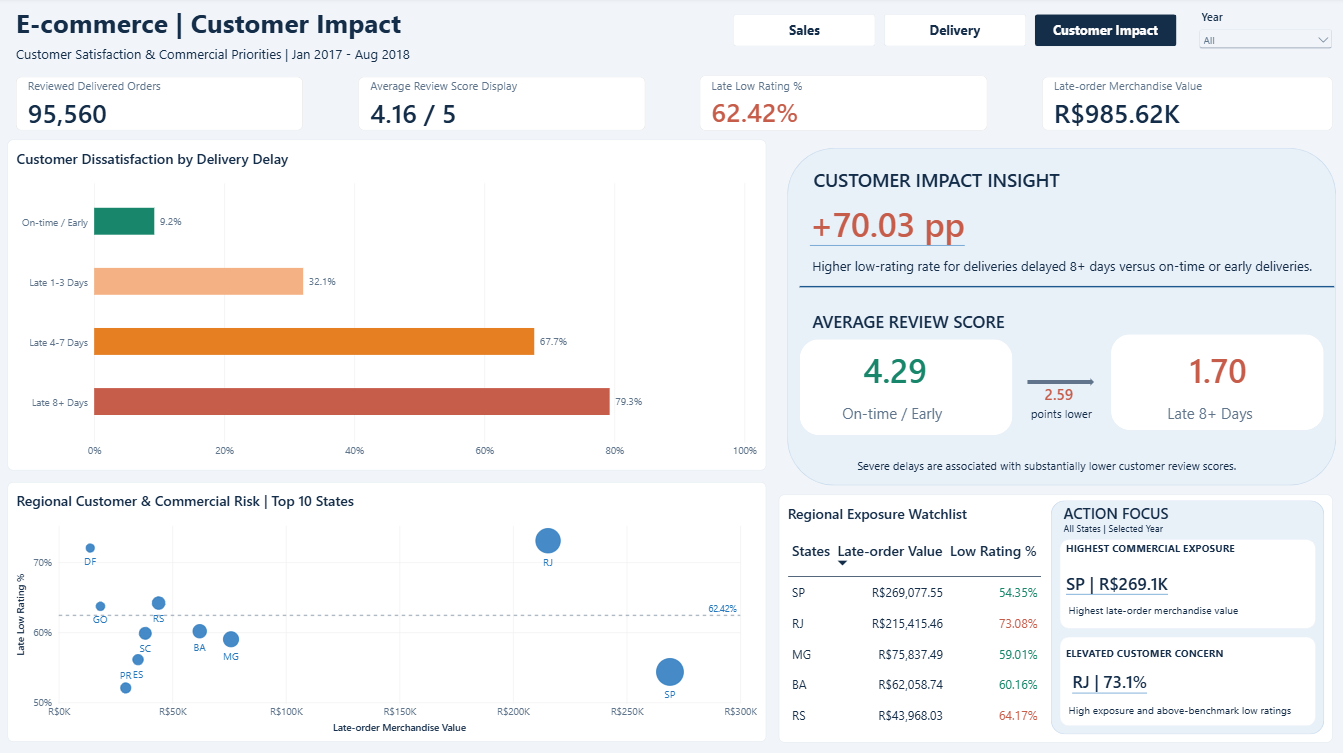

Layout of this report page (visuals, bound fields, positions):
{"tool":"powerbi","page":{"name":"Customer Impact","canvas":[1920,1080],"ordinal":2},"visuals":[{"type":"scatterChart","title":"Regional Customer & Commercial Risk | Top 10 States","fields":{"Category":["Customers.customer_state"],"Size":["OrderReviews.Late Reviewed Orders"],"X":["OrderItems.Late-order Merchandise Value"],"Y":["OrderReviews.Late Low Rating %"]},"box":[10.7,692.9,1083.9,371.4],"z":0},{"type":"textbox","box":[10.9,0,723.6,83.6],"z":1000},{"type":"textbox","box":[10.7,57.1,667.9,53.6],"z":2000},{"type":"cardVisual","fields":{"Data":["OrderReviews.Reviewed Delivered Orders"]},"box":[10.9,101.8,434.5,101.8],"z":3000},{"type":"cardVisual","fields":{"Data":["Customers.Average Review Score Display"]},"box":[499.4,101.8,434.5,101.8],"z":4000},{"type":"cardVisual","fields":{"Data":["OrderReviews.Late Low Rating %"]},"box":[987.2,99.5,435.4,103.2],"z":5000},{"type":"cardVisual","fields":{"Data":["OrderItems.Late-order Merchandise Value"]},"box":[1476.4,101.8,440,101.8],"z":6000},{"type":"slicer","fields":{"Values":["DateTable.Year"]},"box":[1696.4,5.5,223.6,87.3],"z":7000},{"type":"pageNavigator","box":[1036.4,12.7,659.3,70.4],"z":8000},{"type":"clusteredBarChart","title":"Customer Dissatisfaction by Delivery Delay","fields":{"Category":["Orders.Delivery Delay Bucket"],"Y":["OrderReviews.Low Rating Rate %"]},"box":[11.3,204.4,1084,472.6],"z":9000},{"type":"shape","box":[1112.1,204.4,808.3,506.4],"z":10000},{"type":"textbox","box":[1149.6,230.7,444.5,69.4],"z":11000},{"type":"textbox","box":[1144,279.4,296.5,101.3],"z":12000},{"type":"shape","box":[1130.8,350.7,787.7,127.5],"z":13000},{"type":"shape","box":[1130.8,476.3,328.2,161.3],"z":14000},{"type":"shape","box":[1574.9,470.3,328.2,161.3],"z":15000},{"type":"textbox","box":[1147.7,435.1,307.6,69.4],"z":16000},{"type":"textbox","box":[1147.7,358.2,755.8,76.9],"z":17000},{"type":"cardVisual","fields":{"Data":["OrderReviews.On-time Avg Review Score"]},"box":[1205.9,483.8,243.8,97.5],"z":18000},{"type":"textbox","box":[1190.9,568.2,210,56.3],"z":19000},{"type":"cardVisual","fields":{"Data":["OrderReviews.Late 8+ Days Avg Review Score"]},"box":[1671,483.8,215.7,97.5],"z":20000},{"type":"textbox","box":[1656,568.2,202.5,56.3],"z":21000},{"type":"shape","box":[1455.3,532.6,120,35.6],"z":22000},{"type":"cardVisual","fields":{"Data":["OrderReviews.Review Score Drop"]},"box":[1464.7,540.1,116.3,56.3],"z":23000},{"type":"textbox","box":[1460.9,572,114.4,46.9],"z":24000},{"type":"textbox","box":[1213.4,647,626.4,60],"z":25000},{"type":"tableEx","title":"Regional Exposure Watchlist","fields":{"Values":["Customers.customer_state","OrderItems.Late-order Merchandise Value","OrderReviews.Late Low Rating %"]},"box":[1112.1,710.8,791.4,354.4],"z":26000},{"type":"shape","box":[1489,707,414.5,358.2],"z":27000},{"type":"shape","box":[1502.2,763.3,390.1,151.9],"z":28000},{"type":"shape","box":[1502.2,902.1,390.1,151.9],"z":28500},{"type":"textbox","box":[1507.8,710.8,300.1,54.4],"z":29000},{"type":"textbox","box":[1511.5,808.3,208.2,63.8],"z":30000},{"type":"textbox","box":[1519.1,950.8,166.9,69.4],"z":31000},{"type":"textbox","box":[1511.5,765.2,288.8,50.6],"z":32000},{"type":"textbox","box":[1513.4,853.3,333.8,48.8],"z":33000},{"type":"textbox","box":[1511.5,915.2,316.9,52.5],"z":34000},{"type":"textbox","box":[1513.4,995.8,356.3,48.8],"z":35000},{"type":"textbox","box":[1507.8,737,245.7,52.5],"z":36000}]}

Visuals, with their boxes in screenshot pixels (x1, y1, x2, y2), scaled from the page's 1920x1080 canvas onto the 1343x753 screenshot:
"Regional Customer & Commercial Risk | Top 10 States" scatterChart: rect(7, 483, 766, 742)
textbox: rect(8, 0, 514, 58)
textbox: rect(7, 40, 475, 77)
cardVisual - OrderReviews.Reviewed Delivered Orders: rect(8, 71, 312, 142)
cardVisual - Customers.Average Review Score Display: rect(349, 71, 653, 142)
cardVisual - OrderReviews.Late Low Rating %: rect(691, 69, 995, 141)
cardVisual - OrderItems.Late-order Merchandise Value: rect(1033, 71, 1340, 142)
slicer - DateTable.Year: rect(1187, 4, 1342, 65)
pageNavigator: rect(725, 9, 1186, 58)
"Customer Dissatisfaction by Delivery Delay" clusteredBarChart: rect(8, 143, 766, 472)
shape: rect(778, 143, 1342, 496)
textbox: rect(804, 161, 1115, 209)
textbox: rect(800, 195, 1008, 265)
shape: rect(791, 245, 1342, 333)
shape: rect(791, 332, 1021, 445)
shape: rect(1102, 328, 1331, 440)
textbox: rect(803, 303, 1018, 352)
textbox: rect(803, 250, 1331, 303)
cardVisual - OrderReviews.On-time Avg Review Score: rect(844, 337, 1014, 405)
textbox: rect(833, 396, 980, 435)
cardVisual - OrderReviews.Late 8+ Days Avg Review Score: rect(1169, 337, 1320, 405)
textbox: rect(1158, 396, 1300, 435)
shape: rect(1018, 371, 1102, 396)
cardVisual - OrderReviews.Review Score Drop: rect(1025, 377, 1106, 416)
textbox: rect(1022, 399, 1102, 432)
textbox: rect(849, 451, 1287, 493)
"Regional Exposure Watchlist" tableEx: rect(778, 496, 1331, 743)
shape: rect(1042, 493, 1331, 743)
shape: rect(1051, 532, 1324, 638)
shape: rect(1051, 629, 1324, 735)
textbox: rect(1055, 496, 1265, 534)
textbox: rect(1057, 564, 1203, 608)
textbox: rect(1063, 663, 1179, 711)
textbox: rect(1057, 534, 1259, 569)
textbox: rect(1059, 595, 1292, 629)
textbox: rect(1057, 638, 1279, 675)
textbox: rect(1059, 694, 1308, 728)
textbox: rect(1055, 514, 1227, 550)
